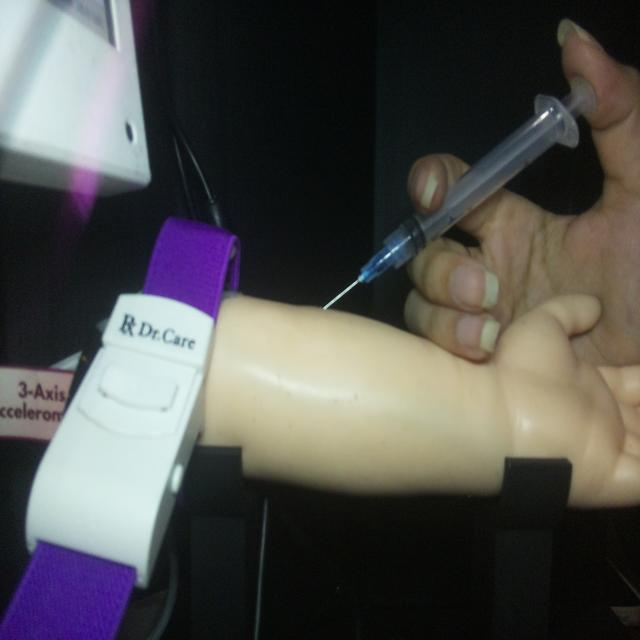28 degrees: (321, 74, 597, 312)
